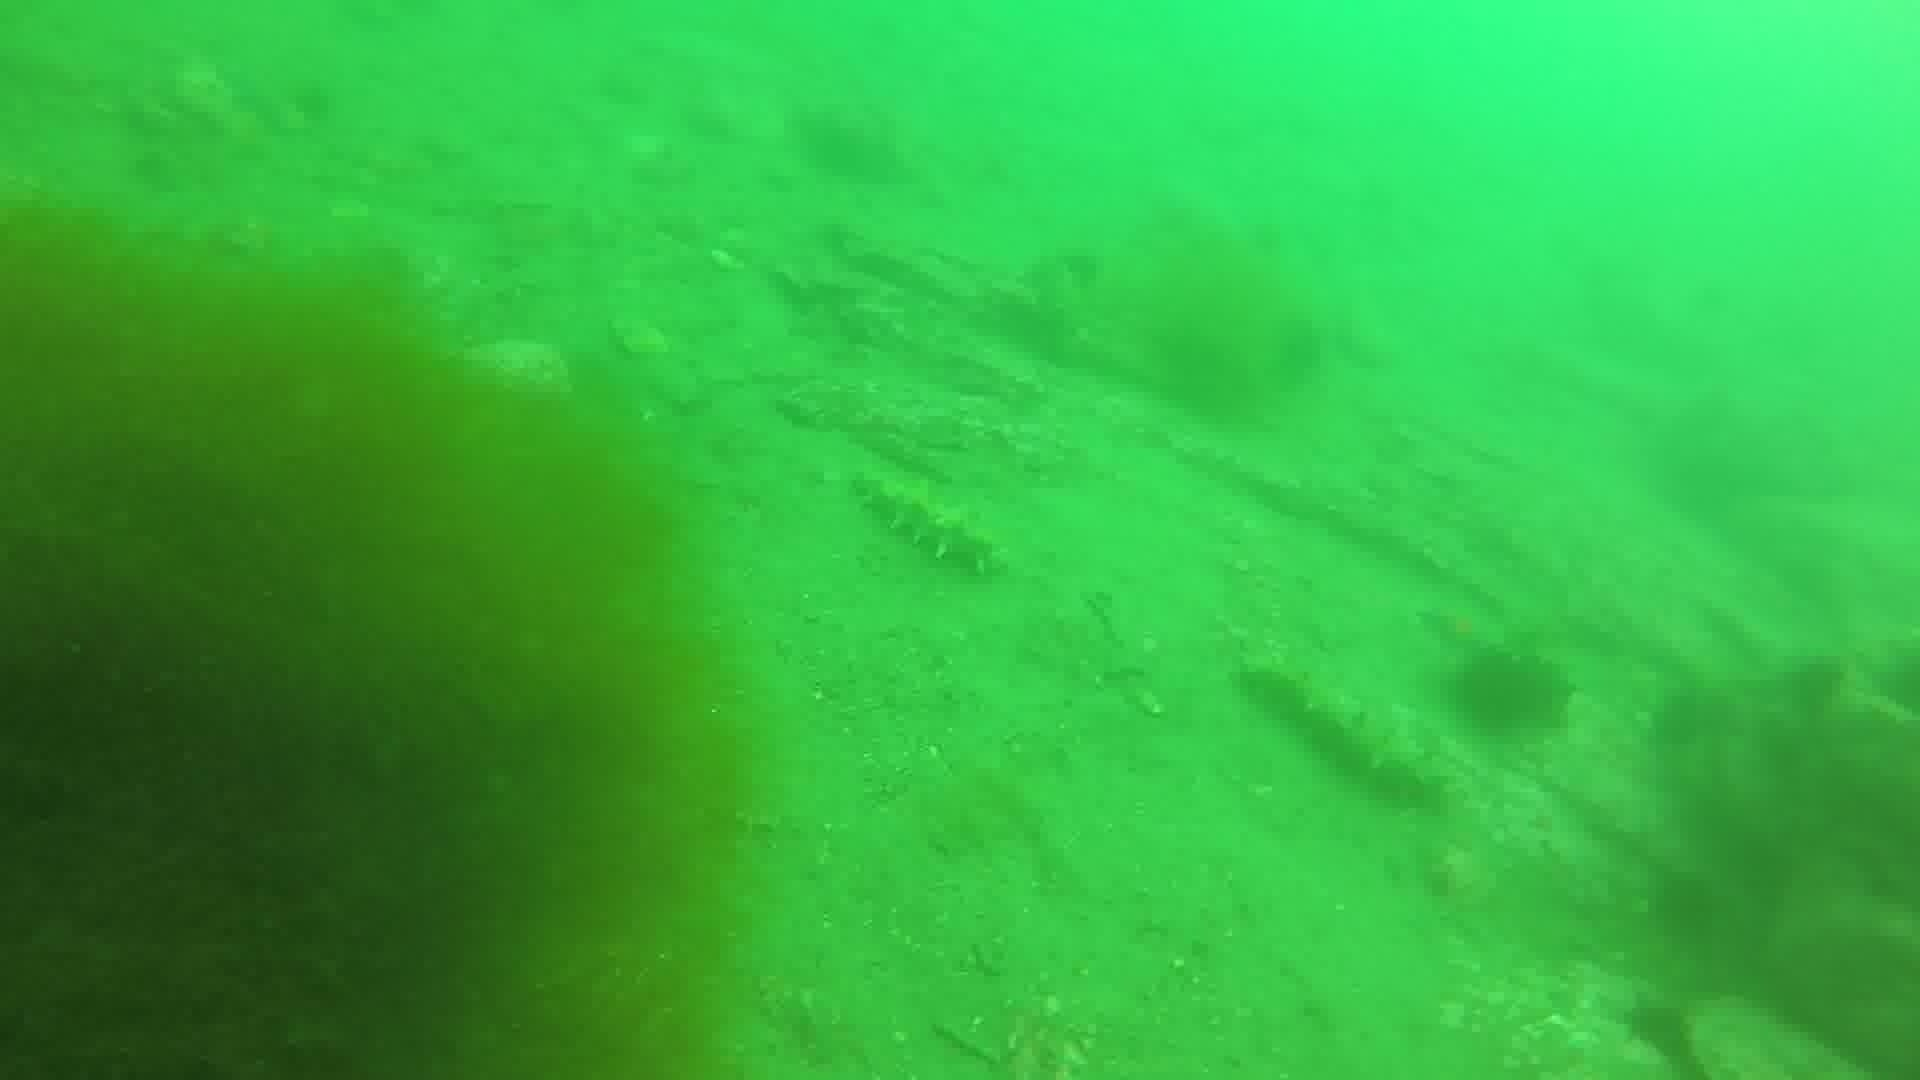echinus: (1447, 644, 1573, 741)
holothurian: (1236, 654, 1447, 814), (848, 462, 1006, 580)
starfish: (1414, 591, 1513, 661)
